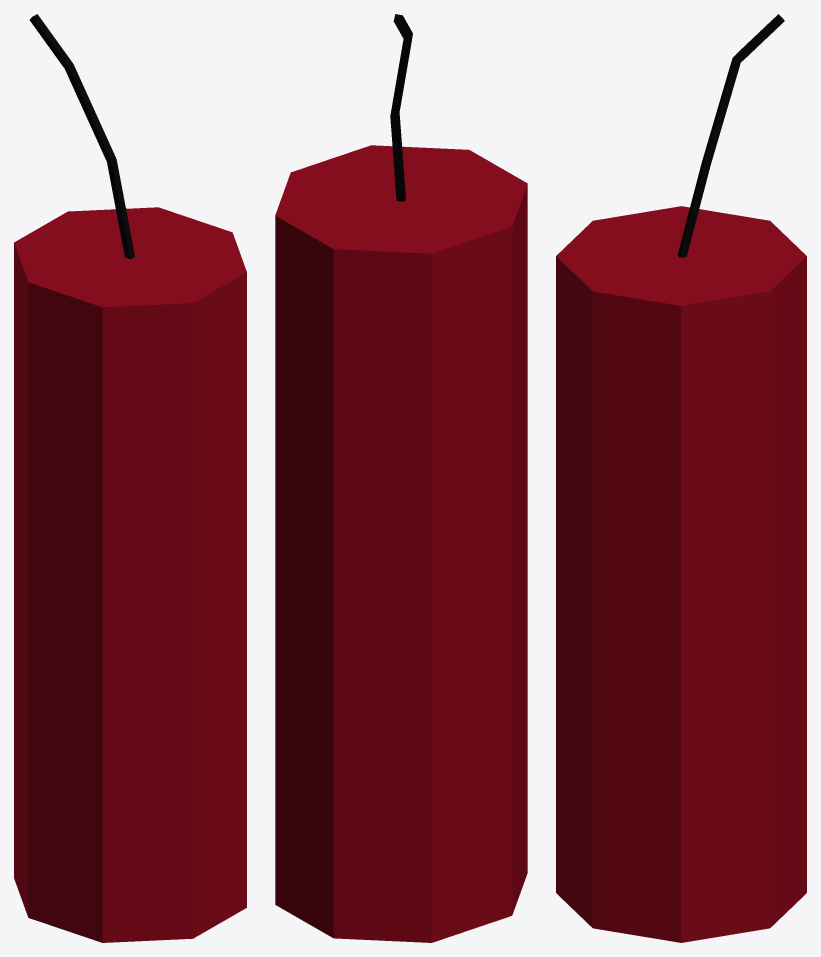
File: dynamite.glb
The picture shows the model from 3 angles, left to right: view 1: azimuth 30°, elevation 25°; view 2: azimuth 150°, elevation 25°; view 3: azimuth 270°, elevation 25°; orthographic projection. The views are drawn at different scales.
Visible parts, largest first — view 1: Dynamite; view 2: Dynamite; view 3: Dynamite.
Boxes of the visible parts, bbox=[...] form: Dynamite: bbox=[14, 14, 246, 942]; Dynamite: bbox=[275, 14, 527, 942]; Dynamite: bbox=[556, 14, 806, 942].
Size of the model in its own units: 0.1523 by 0.6083 by 0.1617.
